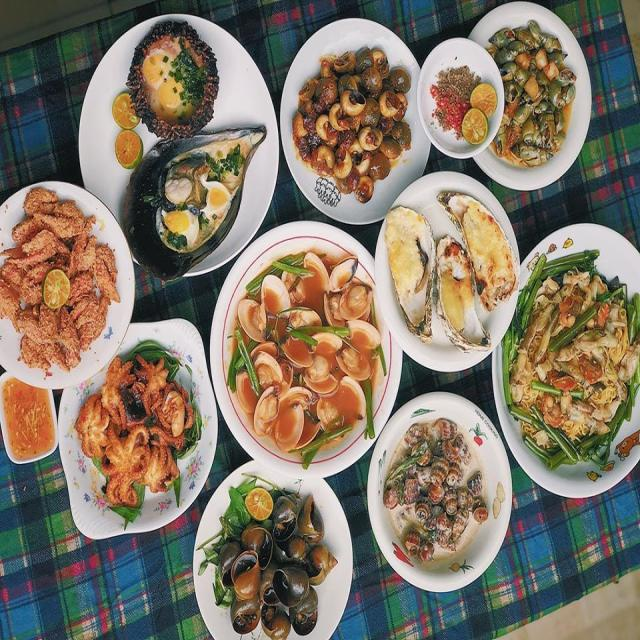bach tuoc nuong: (78, 360, 190, 510)
hau nuong pho mai: (380, 197, 507, 340)
mi xao: (529, 243, 640, 472)
ngheu hap: (220, 260, 379, 450)
nhum nuong mo hanh: (111, 10, 234, 129)
oc buu hap: (216, 493, 338, 634)
oc chien bo: (493, 15, 576, 177)
oc len xao dua: (394, 423, 483, 568)
oc xao me: (291, 44, 412, 198)
